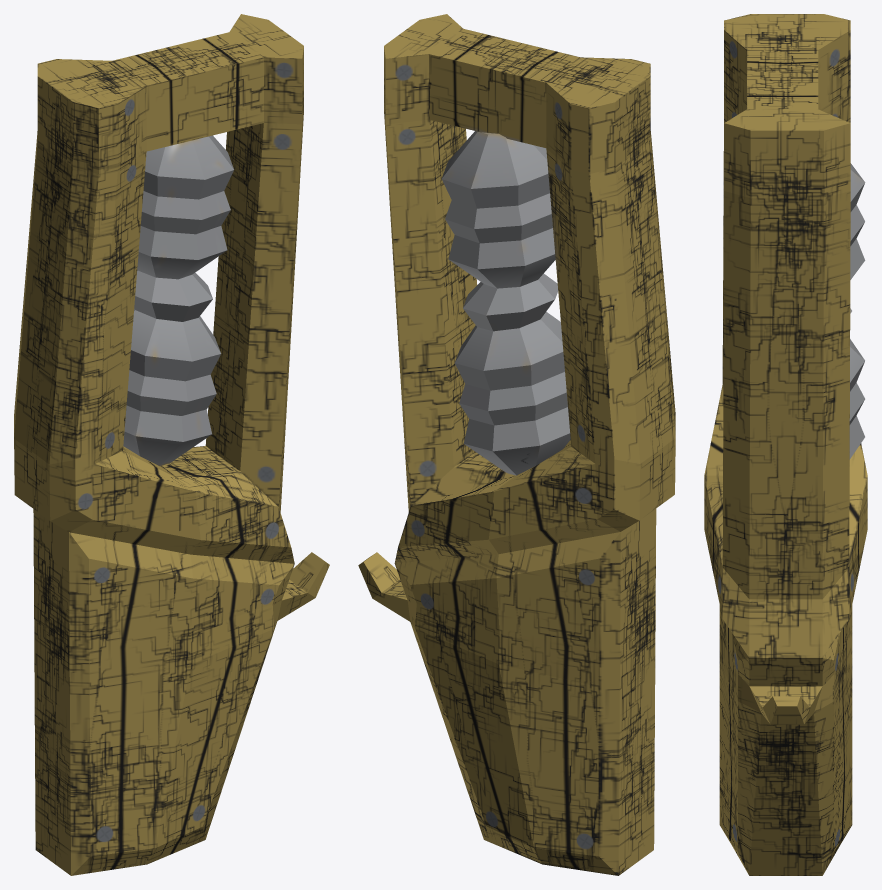
Rendered from Physics_reciever_Tyla.fbx.
The picture shows the model from 3 angles, left to right: view 1: azimuth 30°, elevation 25°; view 2: azimuth 150°, elevation 25°; view 3: azimuth 270°, elevation 25°; orthographic projection. The views are drawn at different scales.
Parts seen in each view (by area): view 1: receiver_Physics; view 2: receiver_Physics; view 3: receiver_Physics.
Boxes of the visible parts, x1,y1,x2,y2 form: receiver_Physics: [14, 14, 329, 875]; receiver_Physics: [358, 14, 675, 875]; receiver_Physics: [704, 14, 867, 875].
Size of the model in its own units: 18.48 by 46.41 by 8.6.
1 material, 1 textured.
